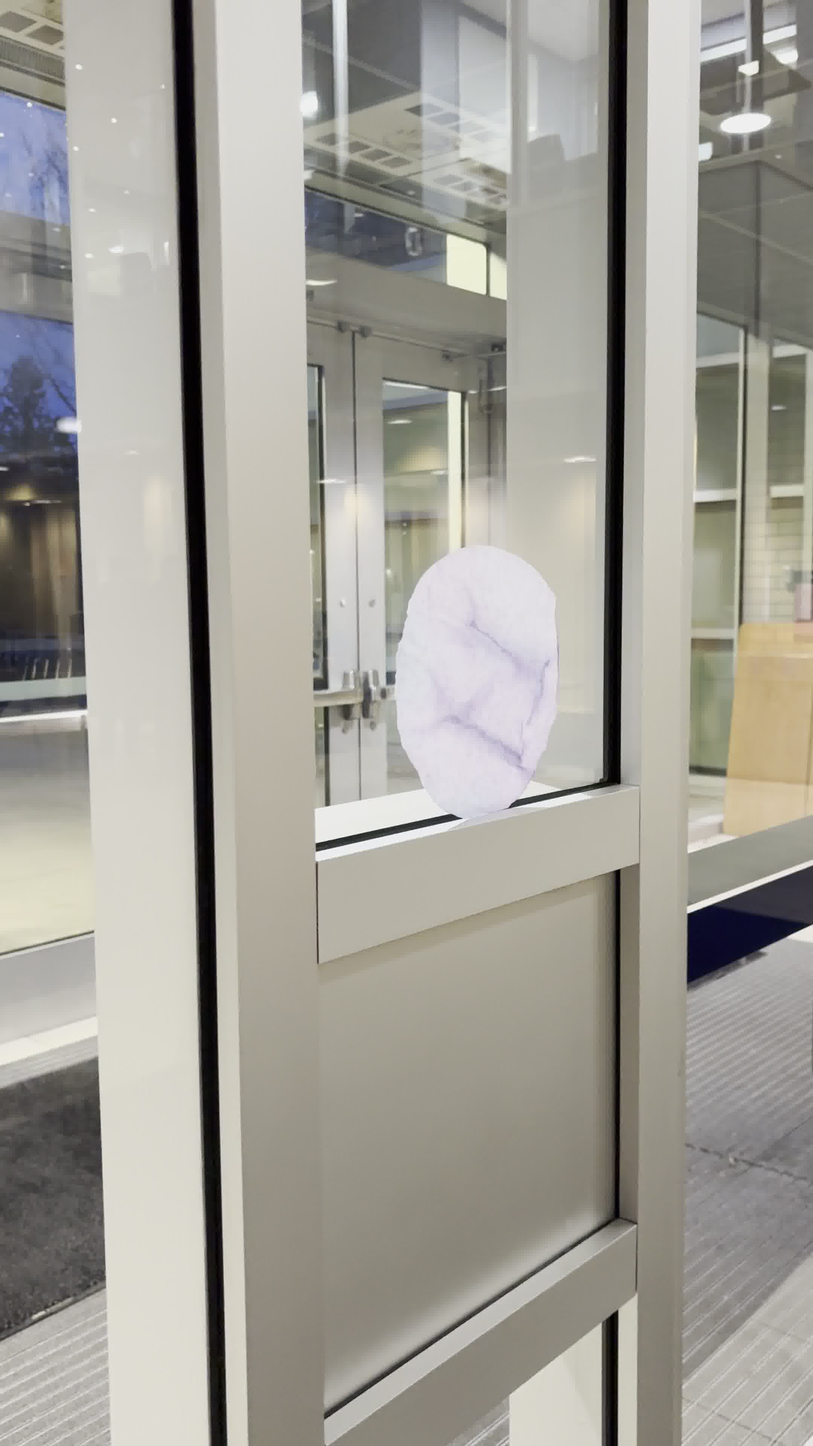Target: (395, 548, 560, 820)
